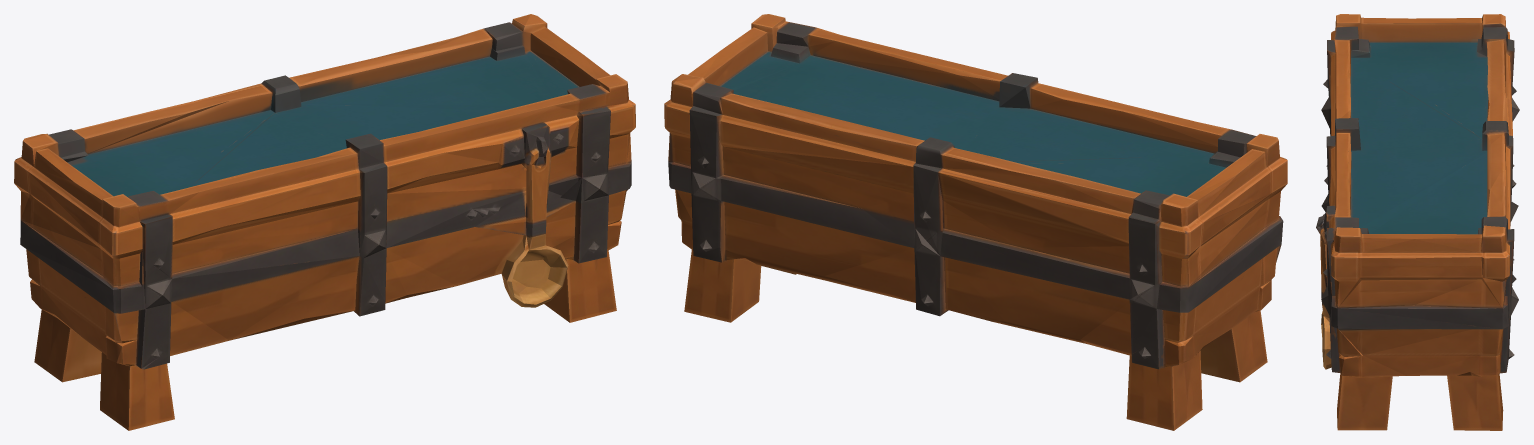
The model's file is TWN_PRP_trough_A.glb.
3 renders of one model, left to right at view 1: azimuth 30°, elevation 25°; view 2: azimuth 150°, elevation 25°; view 3: azimuth 270°, elevation 25°, orthographic. The views are drawn at different scales.
Parts seen in each view (by area): view 1: Mesh_0; view 2: Mesh_0; view 3: Mesh_0.
Part boxes in pixels (x1,y1,x2,y2): Mesh_0: (14, 14, 635, 430); Mesh_0: (664, 14, 1287, 430); Mesh_0: (1316, 14, 1519, 430).
Bounding box in the file's own units: 1.9 × 0.7886 × 0.7227.
Materials: 1 (1 with a texture image).
